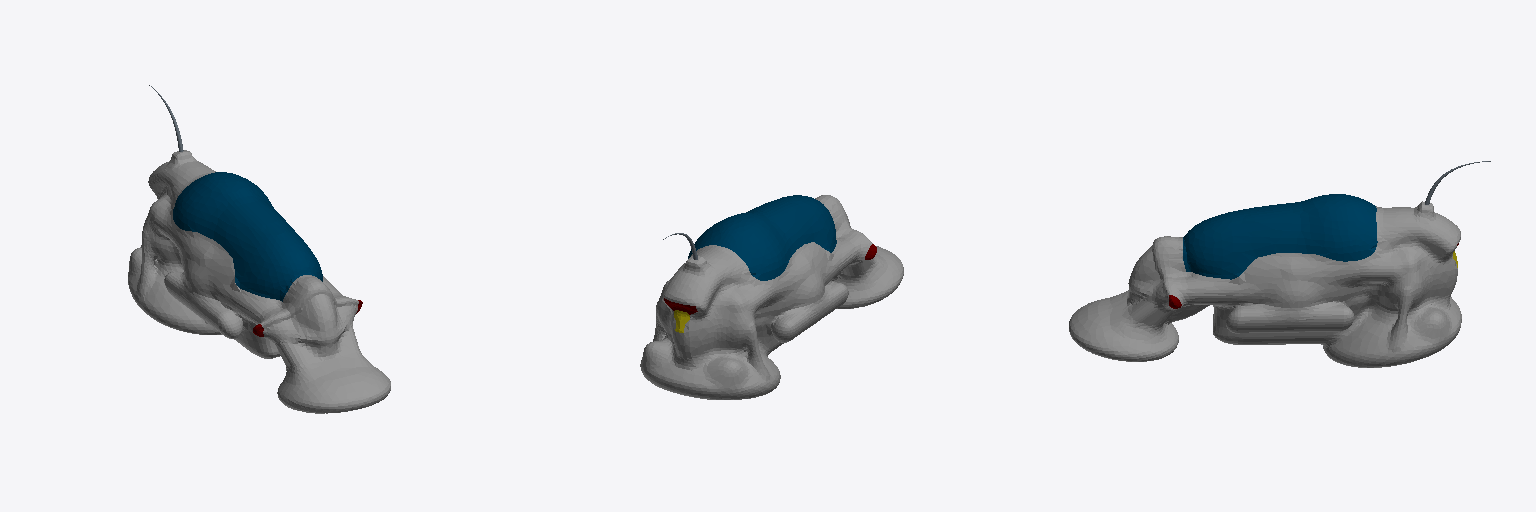
The model's file is speedcraft.obj.
3 views of the same model, side by side, from view 1: azimuth 30°, elevation 25°; view 2: azimuth 150°, elevation 25°; view 3: azimuth 270°, elevation 25° (orthographic).
Visible parts, largest first — view 1: obj5_mat5, obj3_mat3; view 2: obj5_mat5, obj3_mat3; view 3: obj5_mat5, obj3_mat3.
Boxes of the visible parts, box(x1,y1,x2,y2) form: obj5_mat5: box(128, 150, 390, 413); obj3_mat3: box(173, 172, 322, 301); obj5_mat5: box(640, 195, 903, 399); obj3_mat3: box(688, 195, 836, 280); obj5_mat5: box(1069, 201, 1461, 367); obj3_mat3: box(1183, 194, 1377, 279).
Size of the model in its own units: 1.06 by 1.59 by 3.23.